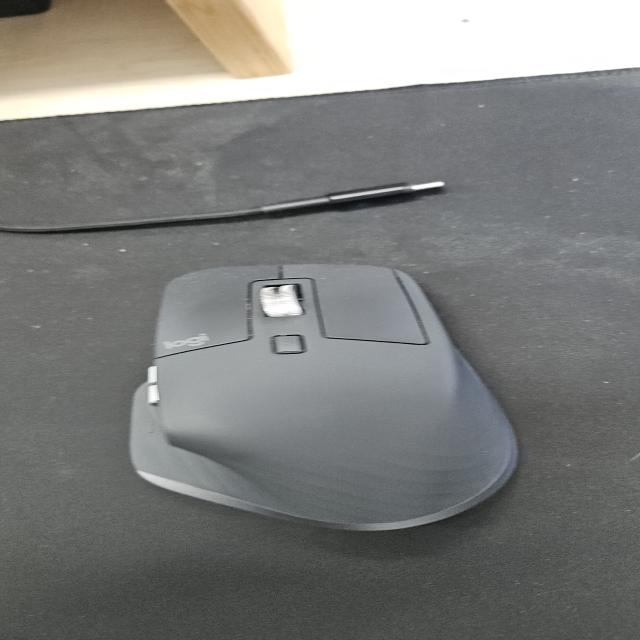Mouse: (125, 261, 522, 532)
